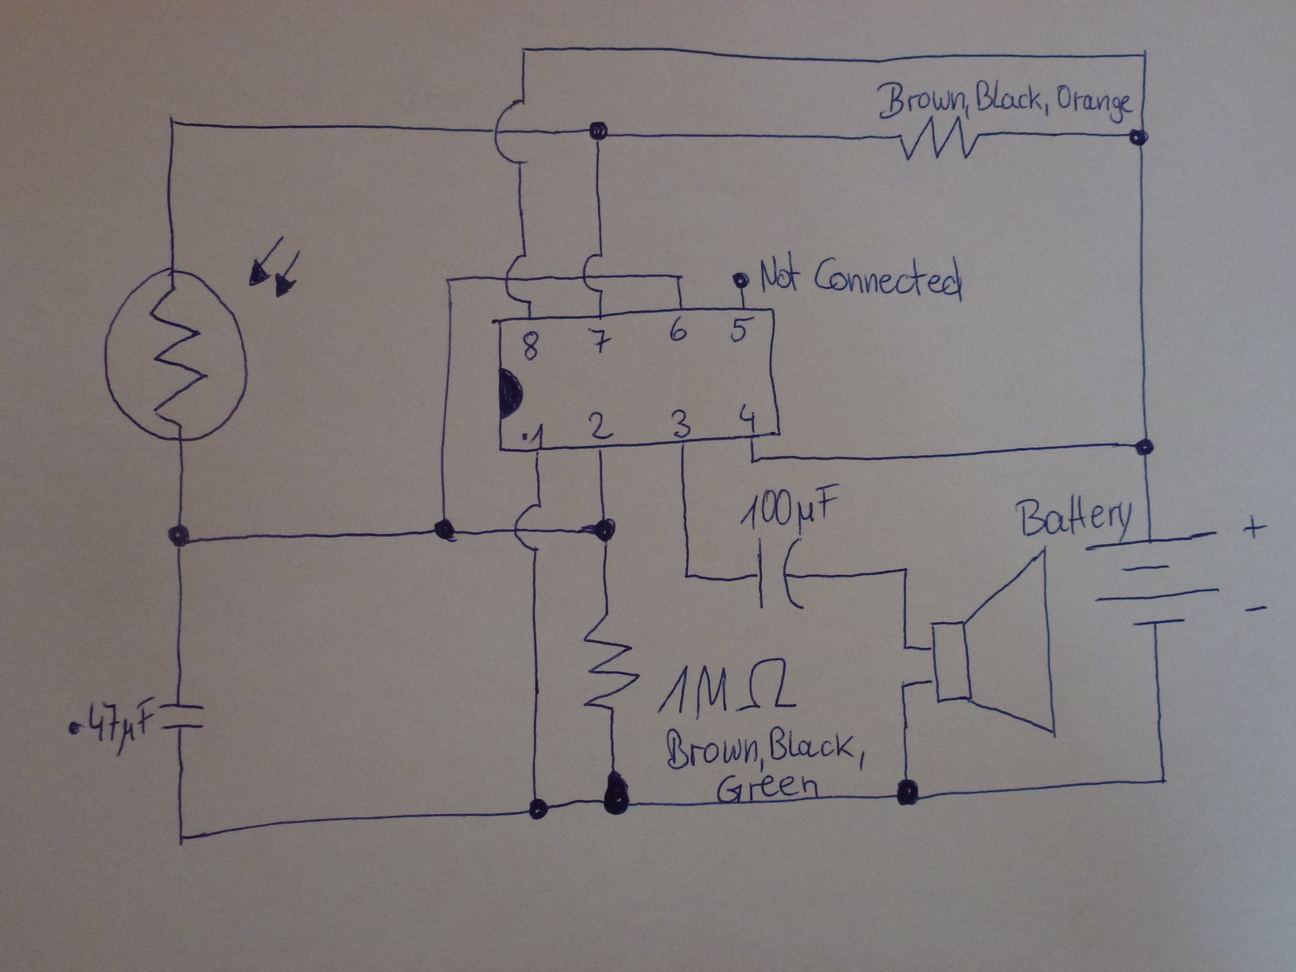capacitor.unpolarized: (747, 529, 815, 617), (152, 697, 206, 738)
crossover: (491, 93, 545, 171), (501, 248, 543, 304), (509, 501, 550, 556), (578, 249, 607, 295)
integrated_circuit: (488, 301, 782, 458)
junction: (593, 770, 636, 827), (161, 517, 197, 553), (589, 514, 620, 548), (583, 115, 615, 148), (428, 514, 460, 545), (521, 790, 552, 824), (892, 774, 921, 809), (510, 35, 541, 63), (1123, 123, 1153, 150), (1130, 433, 1159, 458), (171, 828, 192, 850), (162, 110, 181, 133), (678, 566, 695, 583), (897, 561, 914, 577), (1155, 772, 1172, 788), (440, 272, 456, 288), (1136, 46, 1152, 62), (896, 679, 910, 692), (747, 455, 761, 468), (674, 271, 686, 284), (899, 640, 910, 654)
resistor: (578, 607, 639, 717), (885, 113, 986, 167)
resistor.photo: (100, 232, 306, 446)
speaker: (926, 542, 1062, 741)
terminal: (729, 268, 752, 295)
text: (658, 708, 868, 777), (757, 245, 967, 304), (652, 657, 813, 729), (864, 79, 1136, 119), (1014, 494, 1134, 540), (736, 485, 841, 531), (74, 698, 151, 759), (713, 769, 824, 801), (586, 408, 617, 444), (668, 406, 695, 441), (586, 324, 611, 354), (520, 328, 541, 361), (518, 424, 545, 446), (730, 315, 750, 344), (738, 401, 758, 427), (671, 314, 687, 341)
voltage.dc: (1076, 527, 1227, 636)
